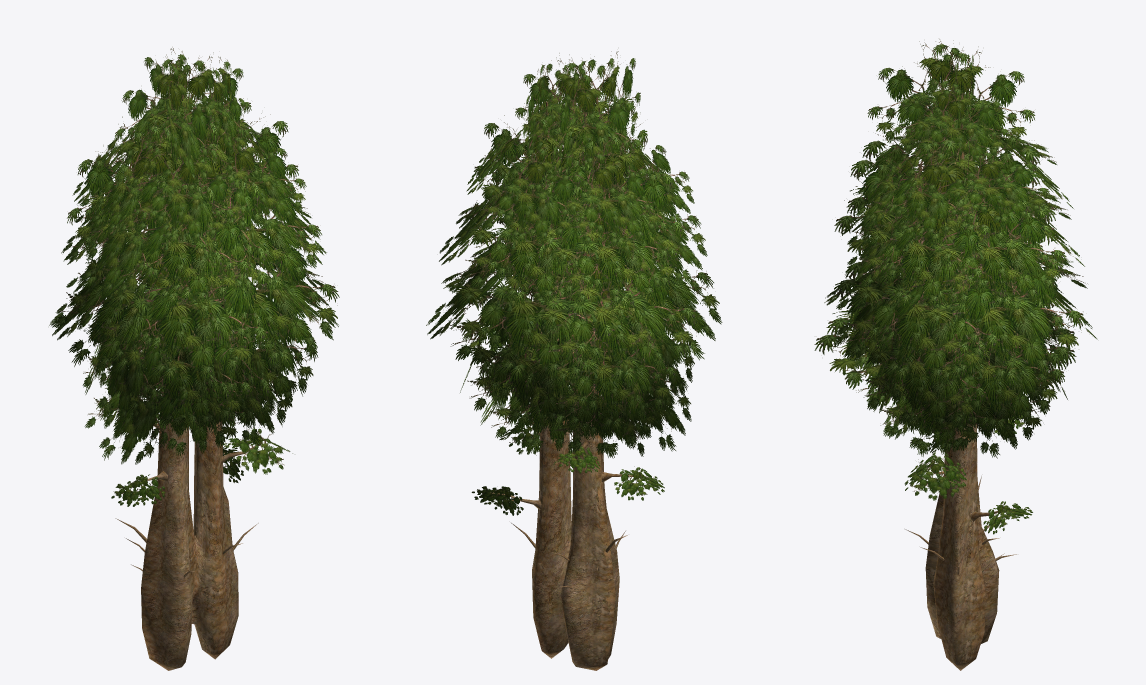
The model's file is decd_endr_blumbush_l0.fbx.
3 views of the same model, side by side, from view 1: azimuth 30°, elevation 25°; view 2: azimuth 150°, elevation 25°; view 3: azimuth 270°, elevation 25° (orthographic).
Parts seen in each view (by area): view 1: mesh_node; view 2: mesh_node; view 3: mesh_node.
Part boxes in pixels (x1=…): mesh_node: x1=49, y1=47, x2=339, y2=670; mesh_node: x1=426, y1=51, x2=722, y2=670; mesh_node: x1=814, y1=39, x2=1097, y2=670.
Bounding box in the file's own units: 26.49 × 50.32 × 25.35.
Materials: 2 (2 with a texture image).
